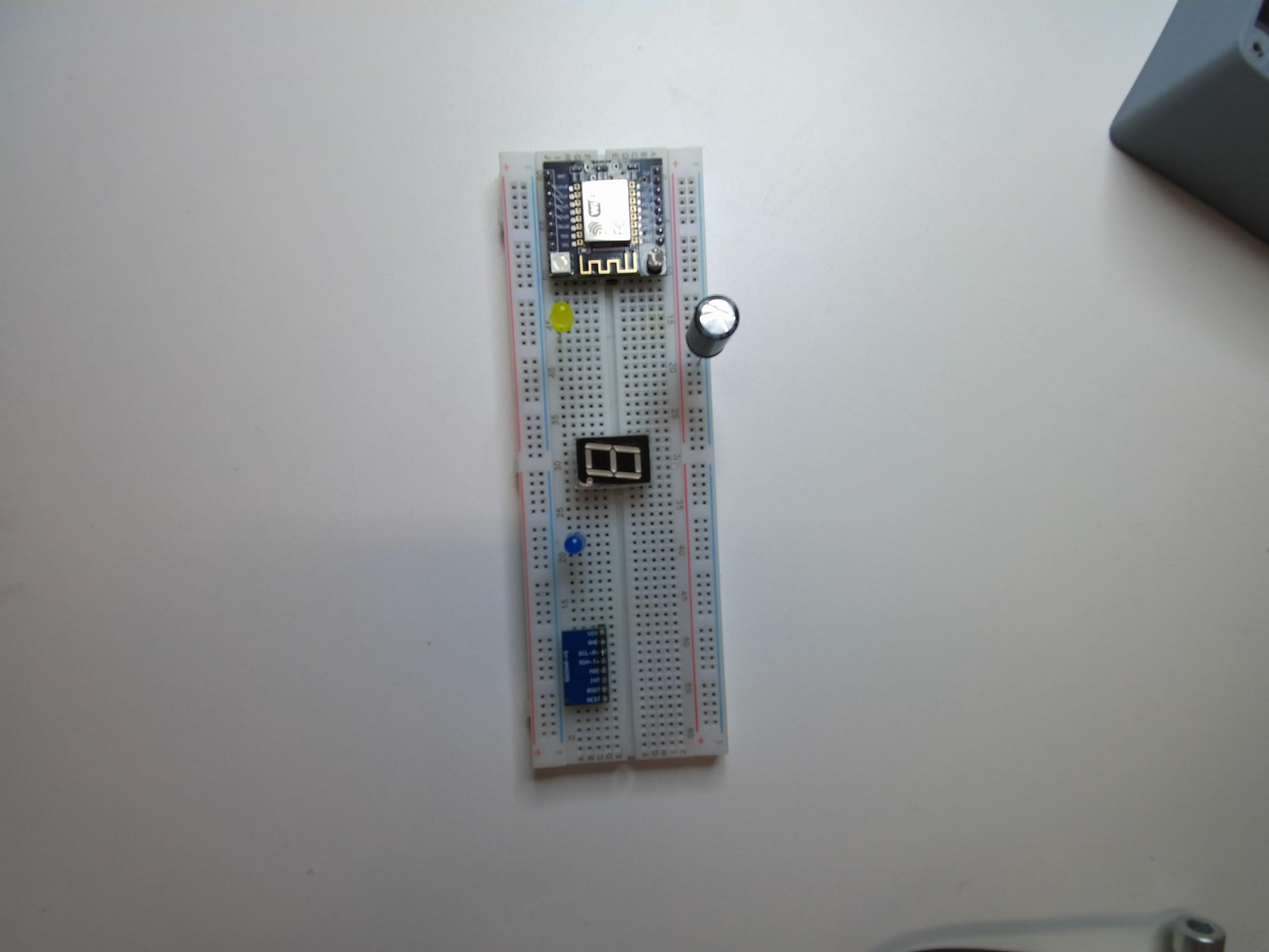base: (491, 141, 736, 781)
blue-board: (558, 622, 615, 712)
blue-led: (562, 527, 587, 563)
capacitor: (676, 294, 739, 364)
digit-board: (573, 433, 651, 489)
esp: (539, 157, 670, 286)
yellow-led: (547, 296, 577, 336)
